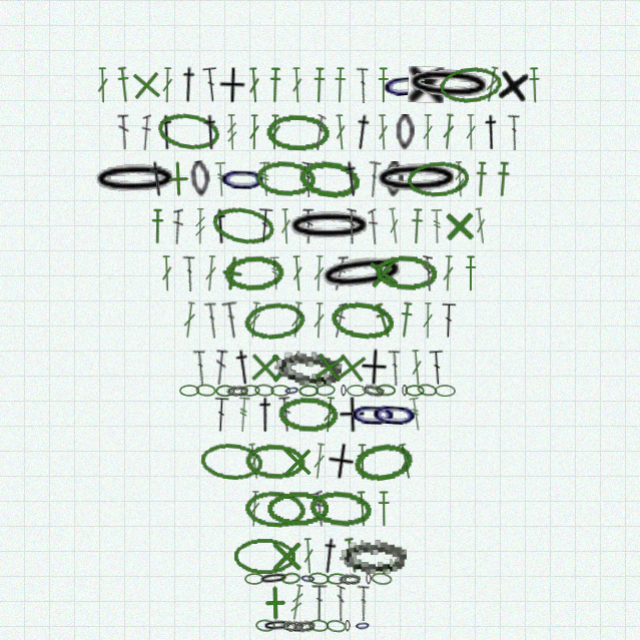chain: (316, 250, 409, 296), (403, 64, 495, 105), (91, 160, 181, 198), (372, 160, 462, 197), (285, 208, 375, 244), (210, 202, 277, 249), (156, 109, 223, 154), (329, 298, 396, 341), (352, 439, 416, 483), (297, 157, 362, 200), (274, 347, 343, 387), (308, 487, 373, 529), (243, 299, 308, 341), (438, 64, 503, 106), (200, 440, 265, 481), (244, 488, 308, 528), (406, 159, 470, 199), (374, 253, 438, 292), (255, 159, 318, 198), (266, 113, 330, 151), (340, 537, 407, 573), (245, 442, 307, 480), (278, 395, 340, 433), (224, 254, 286, 292), (234, 537, 297, 573), (267, 490, 329, 526), (380, 65, 432, 105), (369, 394, 421, 433), (348, 395, 399, 432), (218, 160, 269, 197), (190, 160, 212, 197), (385, 161, 404, 197), (396, 114, 415, 150), (259, 570, 290, 585), (263, 618, 293, 631), (362, 382, 385, 397), (293, 618, 316, 632), (417, 382, 438, 397), (371, 571, 393, 585), (326, 618, 347, 632), (308, 571, 330, 584), (281, 571, 302, 584), (196, 383, 217, 396), (282, 619, 304, 631), (339, 572, 361, 584), (227, 384, 249, 396), (256, 618, 276, 631), (309, 618, 329, 631), (255, 383, 275, 396), (316, 383, 336, 396), (376, 383, 396, 396), (435, 384, 456, 396), (245, 572, 265, 584), (327, 572, 347, 584), (180, 384, 200, 396), (216, 384, 236, 396), (241, 384, 261, 396), (271, 384, 291, 396), (299, 384, 319, 396), (347, 384, 367, 396), (405, 384, 425, 396), (300, 571, 317, 584), (284, 383, 301, 396), (355, 618, 371, 631), (345, 619, 351, 631), (366, 572, 372, 584), (341, 384, 347, 396), (402, 384, 408, 396)
double: (222, 301, 243, 338), (397, 442, 415, 479), (203, 66, 221, 103), (483, 66, 501, 103), (332, 254, 349, 291), (257, 207, 274, 244), (365, 160, 382, 197), (429, 349, 446, 385), (247, 442, 263, 479), (182, 301, 198, 338), (204, 301, 220, 338), (247, 301, 263, 338), (473, 207, 489, 244), (312, 584, 328, 620), (214, 396, 230, 432), (441, 302, 457, 338), (312, 442, 327, 479), (279, 395, 294, 432), (290, 301, 305, 338), (333, 301, 348, 338), (387, 207, 402, 244), (441, 113, 456, 150), (322, 396, 337, 432), (193, 349, 208, 385), (214, 349, 229, 385), (204, 255, 219, 291), (313, 489, 327, 526), (356, 584, 370, 620), (302, 537, 316, 573), (248, 490, 262, 526), (410, 349, 424, 385), (291, 255, 305, 291), (118, 114, 132, 150), (313, 114, 327, 150), (334, 114, 348, 150), (248, 67, 262, 103), (388, 349, 401, 385), (313, 302, 326, 338), (161, 255, 174, 291), (183, 255, 196, 291), (313, 255, 326, 291), (442, 255, 455, 291), (280, 208, 293, 244), (302, 161, 315, 197), (269, 114, 282, 150), (377, 114, 390, 150), (507, 114, 520, 150), (97, 67, 110, 103), (291, 67, 304, 103), (356, 67, 369, 103), (422, 302, 434, 338), (303, 208, 315, 244), (368, 208, 380, 244), (249, 114, 261, 150), (422, 114, 434, 150), (465, 114, 477, 150), (162, 67, 174, 103), (173, 208, 184, 244), (346, 208, 357, 244), (336, 584, 346, 620), (423, 255, 433, 291), (142, 114, 152, 150)
half_double: (317, 536, 343, 574), (350, 113, 376, 151), (232, 348, 256, 385), (146, 160, 170, 197), (340, 160, 364, 197), (372, 301, 395, 339), (178, 66, 201, 103), (255, 396, 277, 432), (211, 208, 232, 244), (157, 114, 178, 150), (201, 114, 222, 150), (481, 114, 502, 150), (342, 536, 362, 573), (397, 301, 415, 338), (116, 66, 133, 103), (409, 208, 425, 244), (495, 161, 511, 197), (355, 490, 370, 526), (474, 161, 489, 197), (268, 67, 283, 103), (312, 67, 327, 103), (333, 67, 348, 103), (527, 67, 542, 103), (377, 490, 391, 526), (356, 443, 370, 479), (464, 255, 478, 291), (151, 208, 165, 244), (377, 67, 390, 103)
single: (309, 346, 350, 387), (332, 347, 372, 387), (213, 253, 253, 293), (364, 253, 403, 292), (495, 65, 533, 105), (128, 66, 166, 104), (247, 348, 284, 385), (268, 348, 305, 385), (441, 207, 478, 244), (160, 160, 197, 197), (408, 66, 445, 103), (258, 584, 294, 620), (269, 537, 305, 573), (280, 443, 316, 479), (325, 441, 357, 480), (359, 348, 389, 385), (218, 67, 247, 103), (338, 396, 366, 432)
treble: (289, 583, 306, 620), (408, 395, 425, 432), (237, 396, 251, 432), (269, 255, 283, 291), (215, 161, 229, 197), (259, 161, 273, 197), (453, 161, 467, 197), (431, 208, 444, 244), (226, 114, 239, 150), (195, 208, 207, 244)
